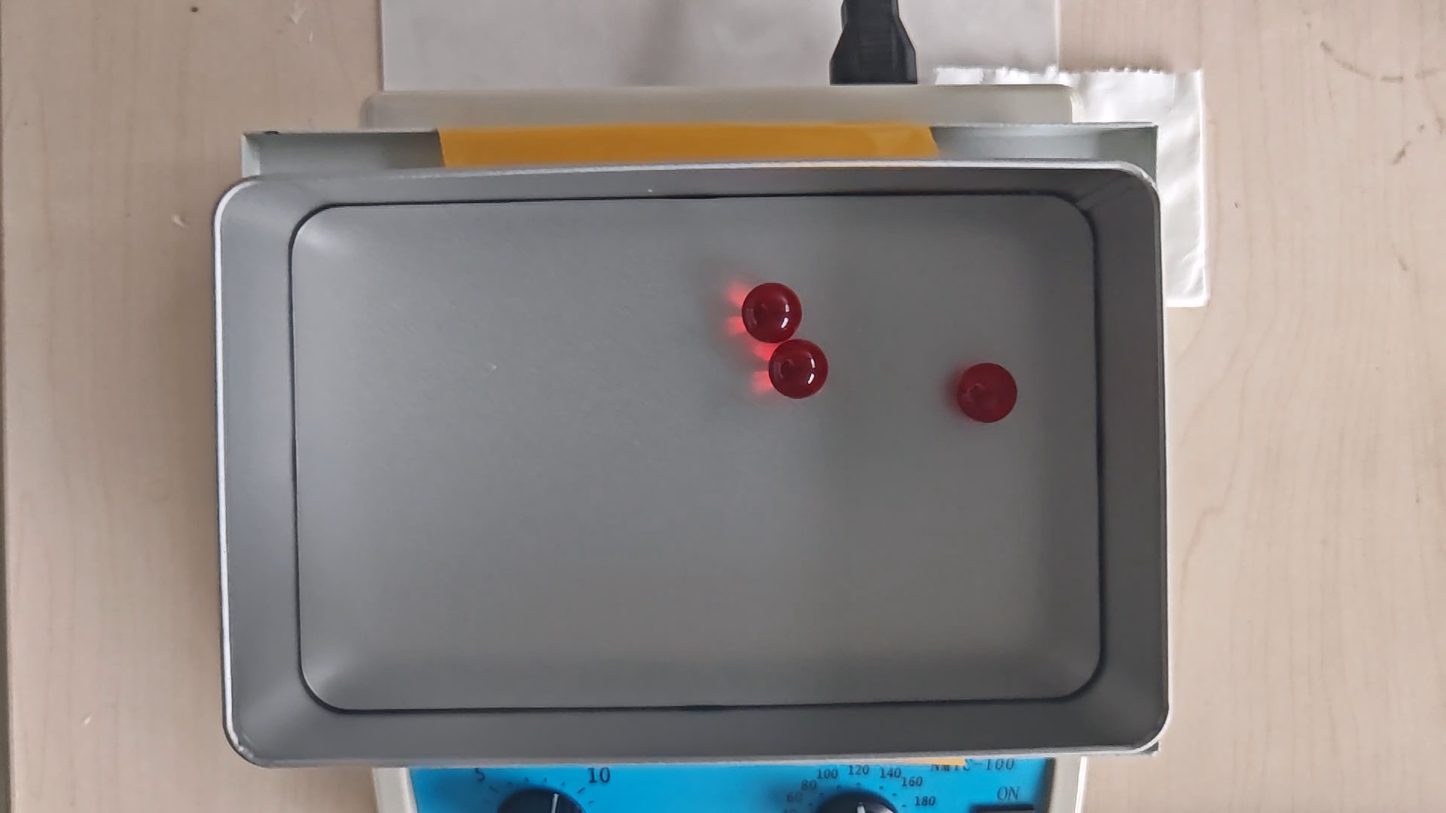ball: (957, 362, 1017, 424), (743, 282, 801, 342), (771, 342, 828, 399)
container: (296, 195, 1100, 708)
